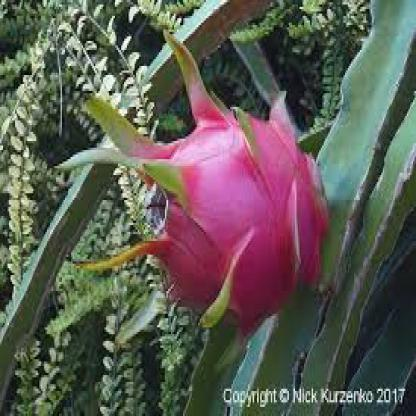dragon-fruit: (157, 117, 331, 314)
